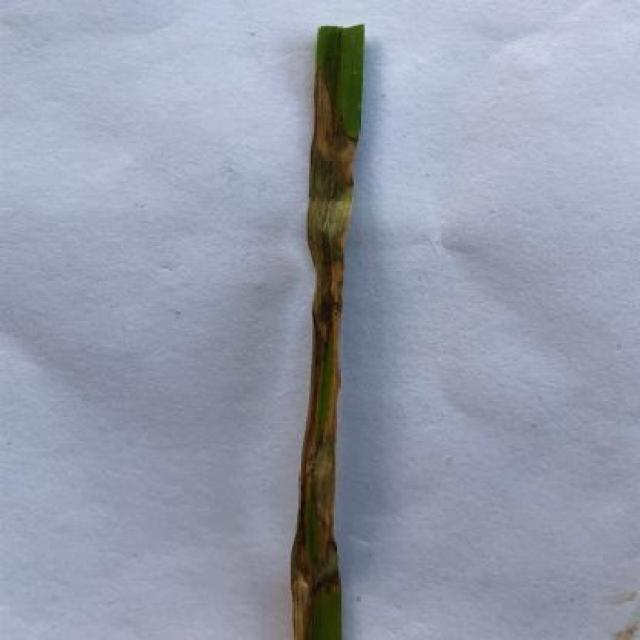Brown_Spot: (285, 6, 369, 640)
